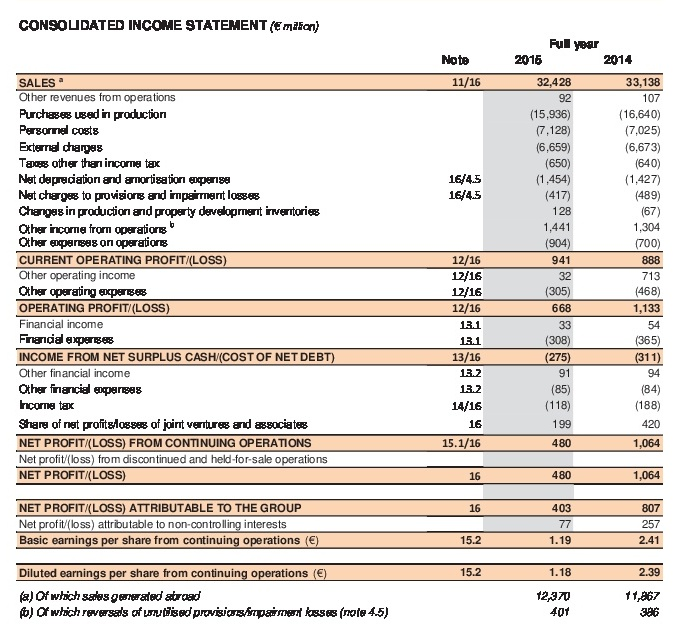table: (0, 0, 674, 635)
